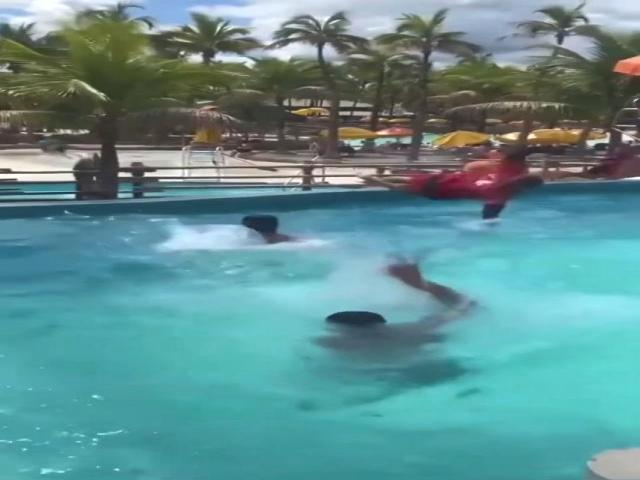drowning: (292, 257, 498, 399)
swimming: (195, 210, 356, 248)
